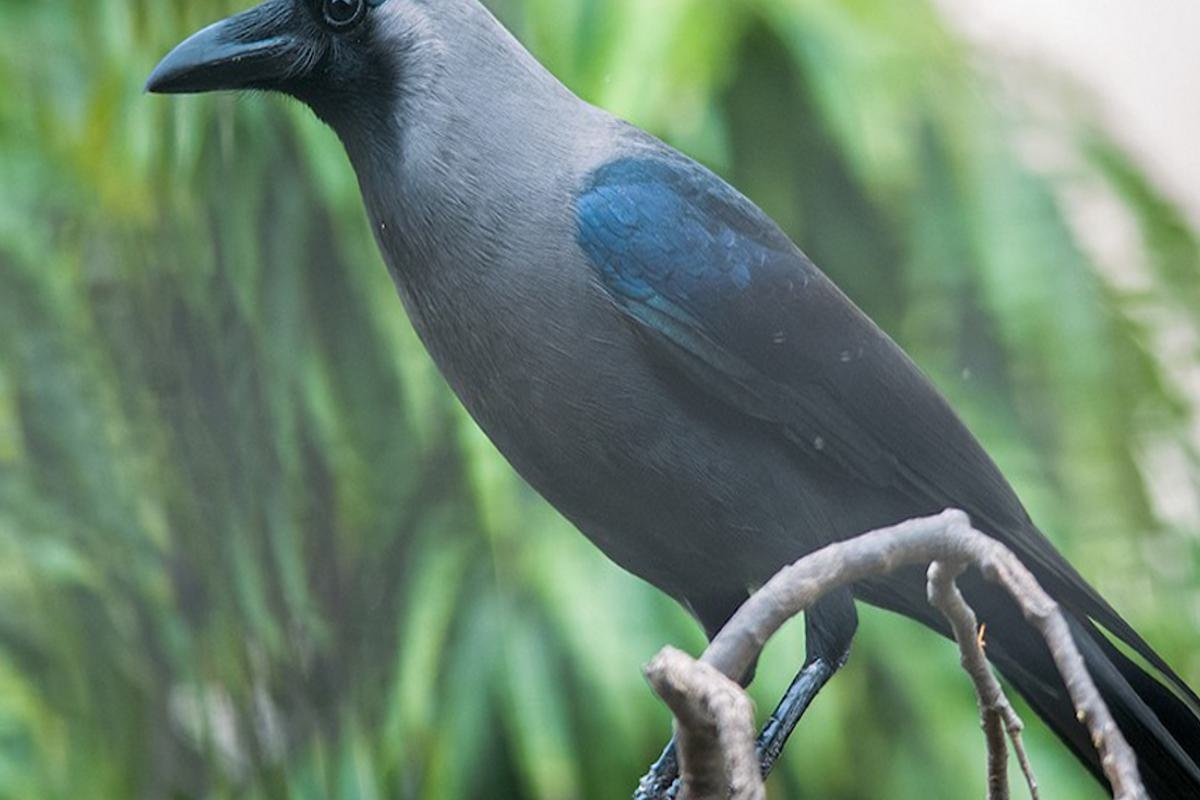crow: (128, 1, 1200, 789)
